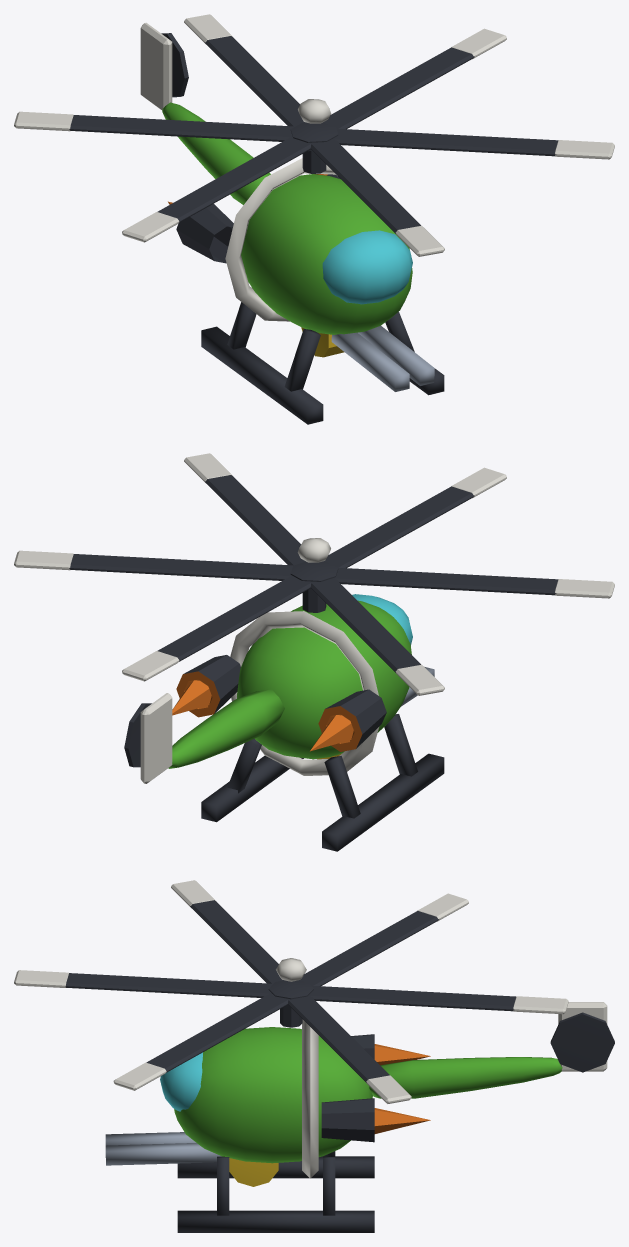
The picture shows the model from 3 angles, top to bottom: view 1: azimuth 30°, elevation 25°; view 2: azimuth 150°, elevation 25°; view 3: azimuth 270°, elevation 25°; orthographic projection. The views are drawn at different scales.
Visible parts, largest first — view 1: heli_0_base, heli_1_torreta; view 2: heli_0_base, heli_1_torreta; view 3: heli_0_base, heli_1_torreta.
Boxes of the visible parts, bbox=[...] form: heli_0_base: bbox=[140, 22, 444, 424]; heli_1_torreta: bbox=[14, 14, 614, 256]; heli_0_base: bbox=[124, 594, 444, 851]; heli_1_torreta: bbox=[14, 453, 614, 695]; heli_0_base: bbox=[105, 1002, 614, 1232]; heli_1_torreta: bbox=[14, 880, 568, 1103].
Size of the model in its own units: 1.38 by 0.7061 by 1.59.
